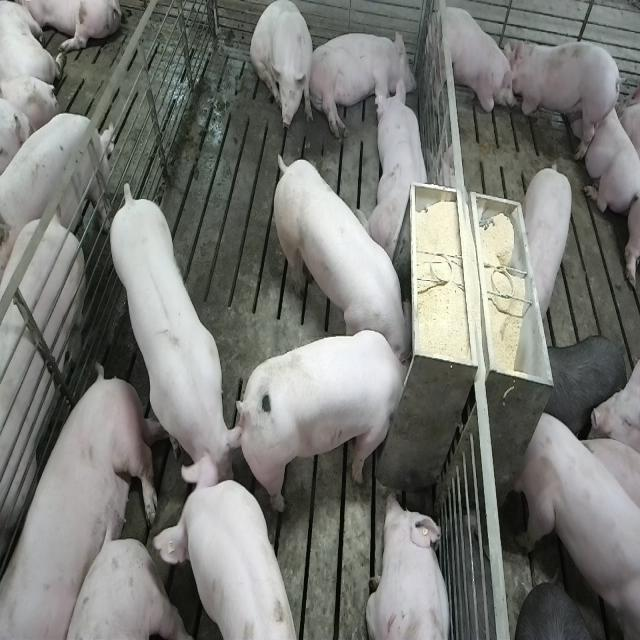Feeding: (244, 329, 419, 515), (269, 146, 411, 362)
Lateral_lying: (3, 367, 160, 640), (307, 28, 418, 139)
Sitting: (250, 2, 316, 138)
Standing: (109, 184, 245, 498), (0, 208, 88, 586), (515, 405, 638, 636), (150, 471, 295, 640), (0, 106, 112, 267), (508, 34, 620, 160), (431, 3, 519, 132), (542, 332, 628, 442), (522, 159, 576, 320)
Sternal_lying: (366, 490, 454, 640), (362, 76, 432, 259), (579, 84, 639, 212)
